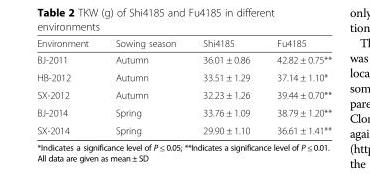table: (36, 37, 331, 135)
table column: (101, 37, 188, 135), (188, 37, 262, 135), (262, 37, 331, 135), (36, 37, 101, 135)
table column header: (36, 37, 331, 51)
table row: (36, 85, 331, 103), (36, 103, 331, 121), (36, 51, 331, 68), (36, 68, 331, 85), (36, 37, 331, 51), (36, 121, 331, 135)
